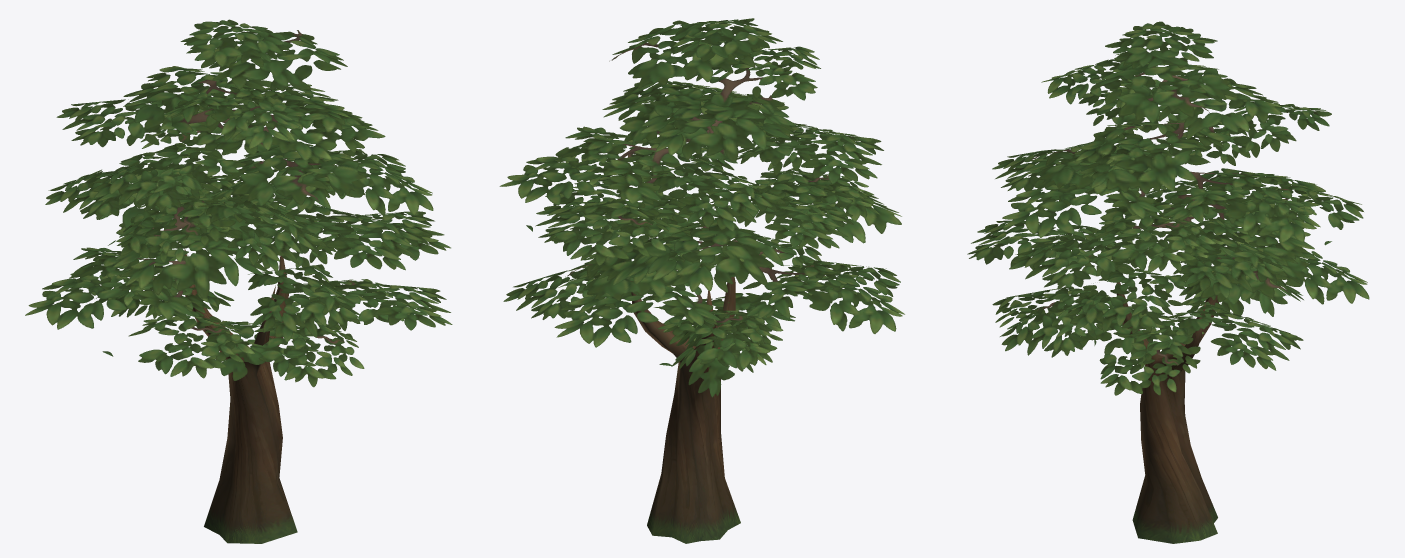
Rendered from Lty_shu_03.FBX.
3 views of the same model, side by side, from view 1: azimuth 30°, elevation 25°; view 2: azimuth 150°, elevation 25°; view 3: azimuth 270°, elevation 25° (orthographic). The views are drawn at different scales.
Visible parts, largest first — view 1: Object001; view 2: Object001; view 3: Object001.
Boxes of the visible parts, left/top/right/bottom form: Object001: left=25, top=19, right=452, bottom=543; Object001: left=499, top=18, right=904, bottom=543; Object001: left=967, top=21, right=1369, bottom=543.
Bounding box in the file's own units: 533 × 630 × 517.
